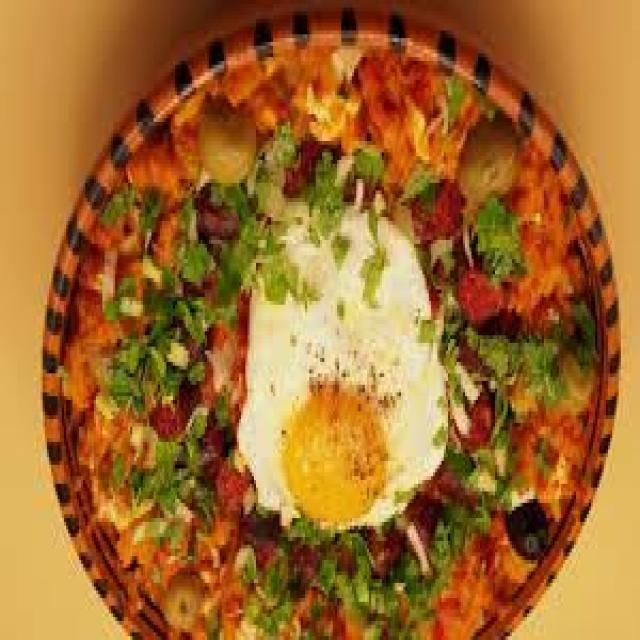Kafteji: (45, 16, 619, 640)
